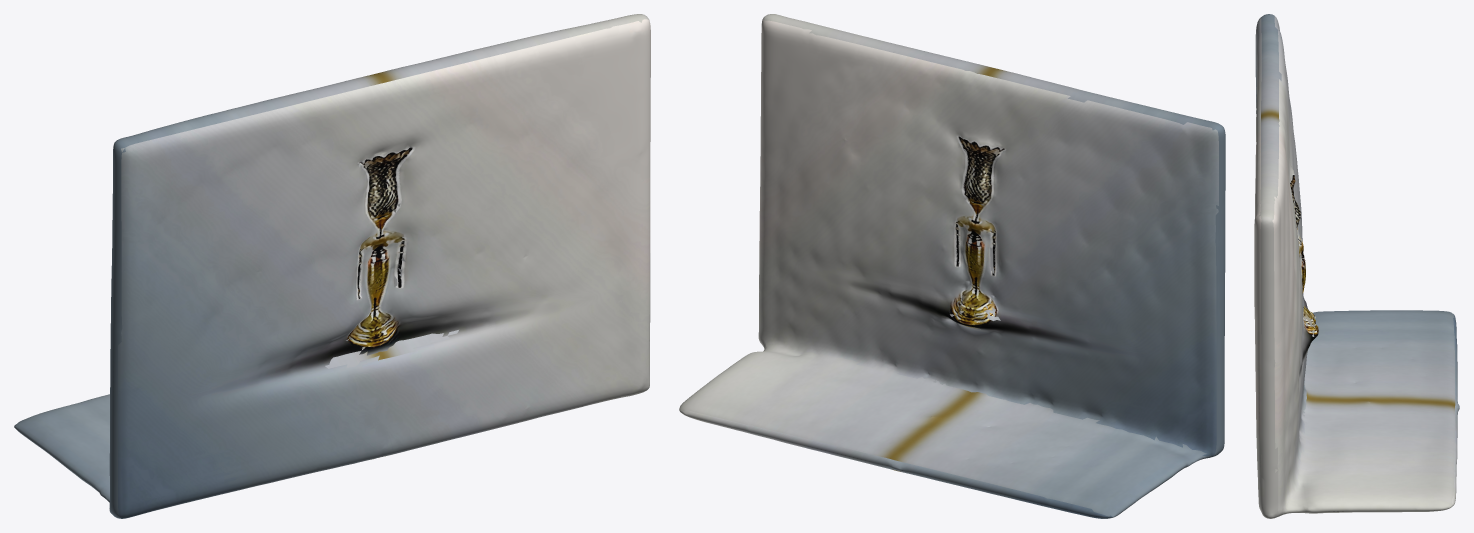
The model's file is kfl-2294.glb.
3 views of the same model, side by side, from view 1: azimuth 30°, elevation 25°; view 2: azimuth 150°, elevation 25°; view 3: azimuth 270°, elevation 25° (orthographic). The views are drawn at different scales.
Parts seen in each view (by area): view 1: kfl-2294; view 2: kfl-2294; view 3: kfl-2294.
Part boxes in pixels (<box>): kfl-2294: <box>14,14,650,518</box>; kfl-2294: <box>679,14,1225,518</box>; kfl-2294: <box>1254,14,1459,518</box>.
Bounding box in the file's own units: 0.9946 × 0.6786 × 0.4138.
Materials: 4 (4 with a texture image).
